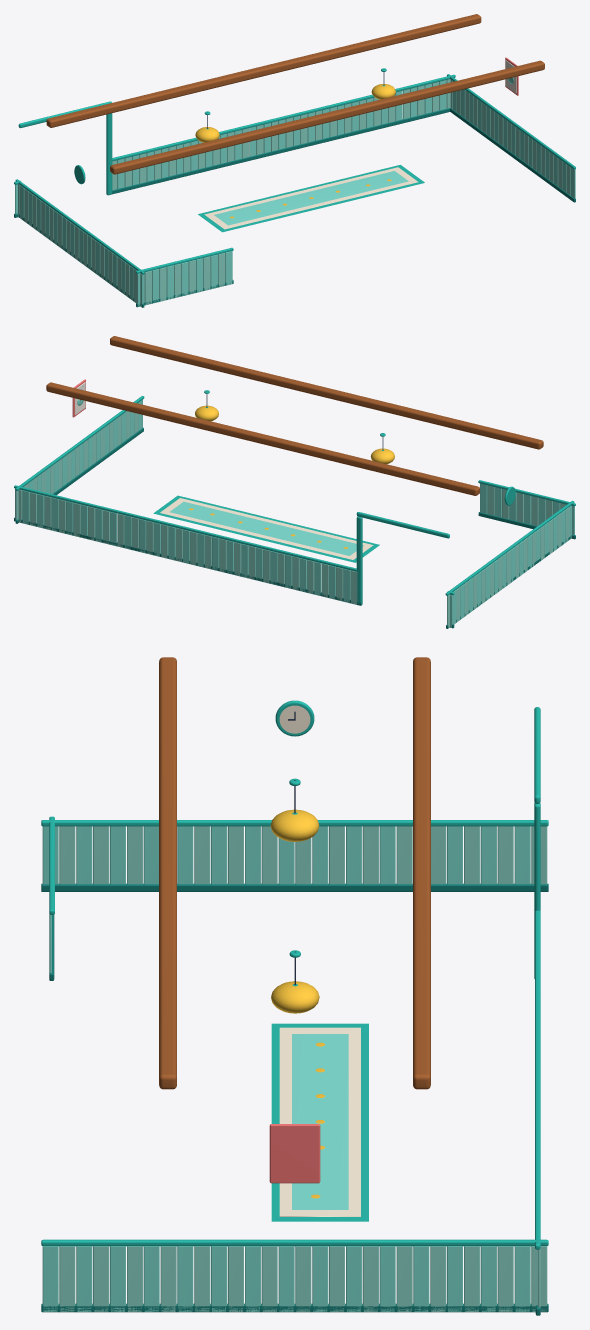
The model's file is UnitCDressing.fbx.
The picture shows the model from 3 angles, top to bottom: view 1: azimuth 30°, elevation 25°; view 2: azimuth 150°, elevation 25°; view 3: azimuth 270°, elevation 25°; orthographic projection. The views are drawn at different scales.
Visible parts, largest first — view 1: UnitCDressing mesh; view 2: UnitCDressing mesh; view 3: UnitCDressing mesh.
Boxes of the visible parts, <box> form: UnitCDressing mesh: <box>14,14,575,307</box>; UnitCDressing mesh: <box>14,336,575,628</box>; UnitCDressing mesh: <box>41,657,548,1315</box>.
Size of the model in its own units: 12.5 by 3.2 by 6.25.
